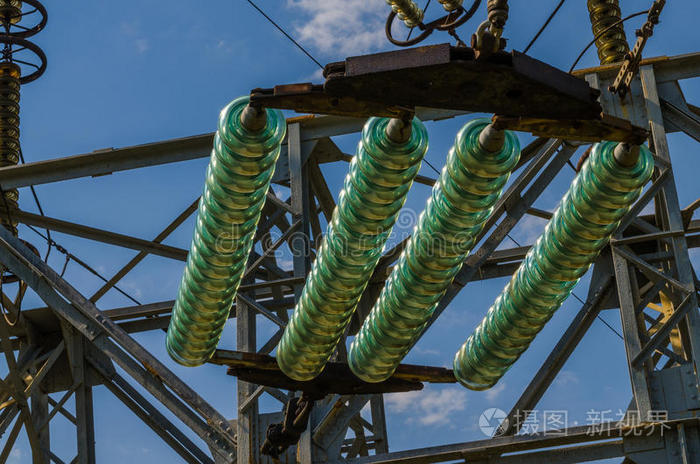insulator: (446, 134, 660, 390), (348, 120, 519, 385), (276, 115, 429, 387), (167, 91, 282, 367), (1, 57, 25, 235), (590, 1, 628, 64), (390, 1, 428, 28)
